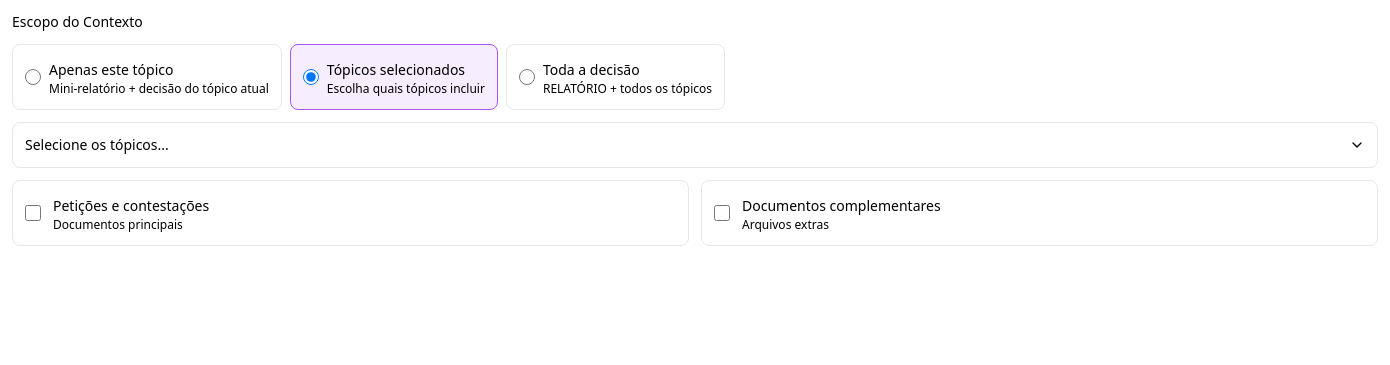
Test: ContextScopeSelector › Topic Dropdown › should show topic list when dropdown button is clicked
Click the button "Selecione os tópicos...": coordinates (97, 144) [12, 122, 1378, 168]
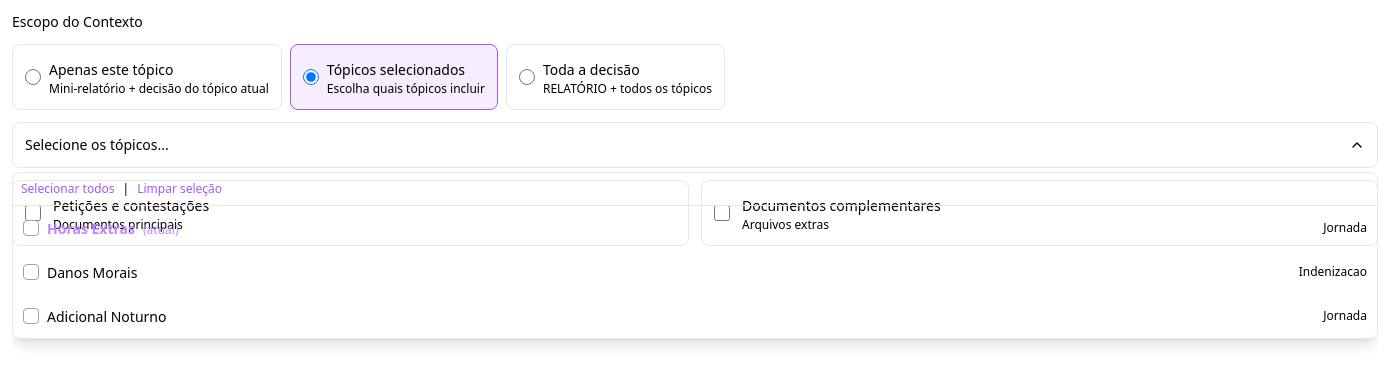
Now the text "Horas Extras" is shown, box [47, 219, 135, 238]
Now the text "Danos Morais" is shown, box [47, 263, 137, 282]
Now the text "Adicional Noturno" is shown, box [47, 307, 166, 326]
